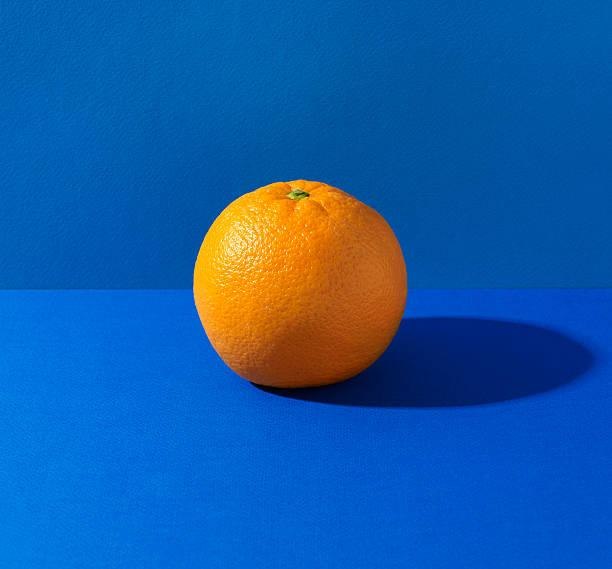orange: (179, 178, 418, 403)
